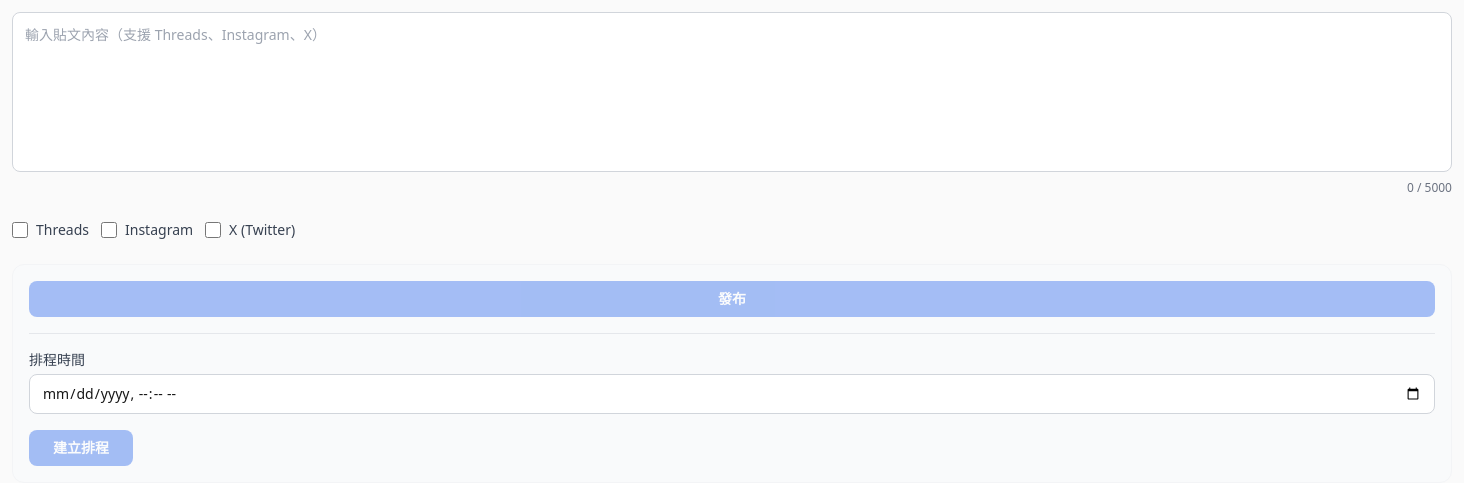
Test case: ComposePage — 發文頁整合 › enables publish button after typing content and selecting a platform
Type "測試貼文內容" into the text box at coordinates (732, 92), box top-left (12, 12), bottom-right (1452, 172)
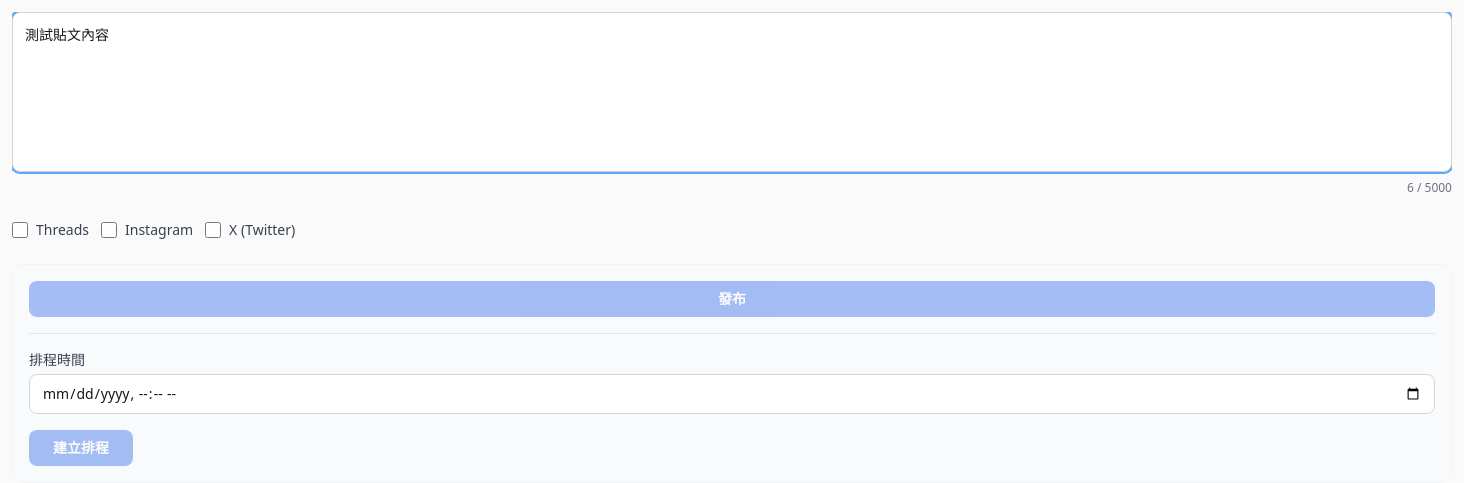
Click the checkbox labelled "Threads" at coordinates (20, 230), box top-left (12, 222), bottom-right (28, 238)
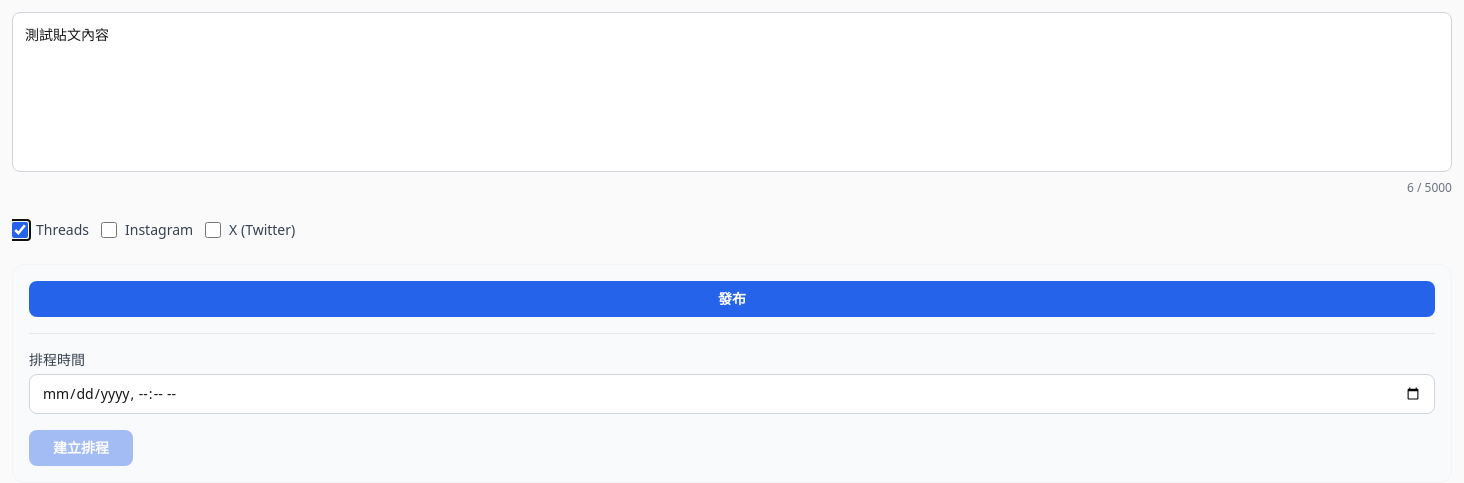
Check: the button "發布" is enabled, box top-left (29, 281), bottom-right (1435, 317)
